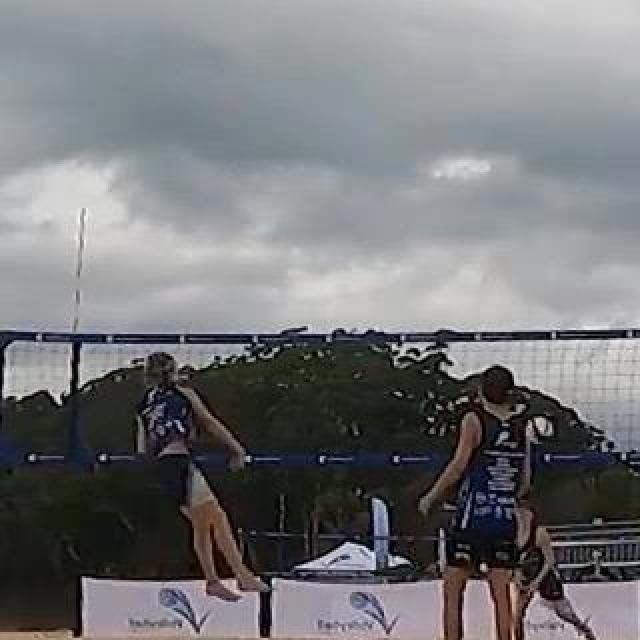volleyball: (523, 416, 553, 446)
